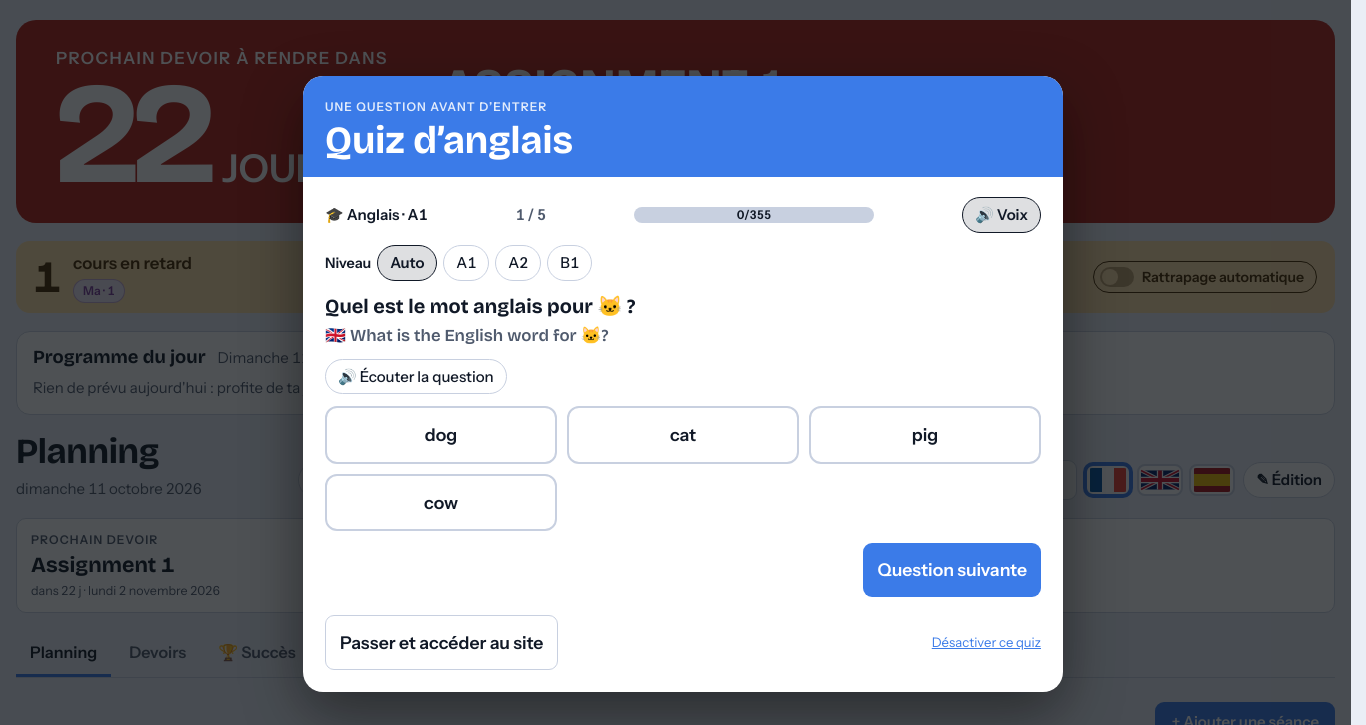
it: English quiz at the door › the level of the questions can be chosen: auto by default, or A1, A2, B1 (a new round starts, progress is kept)
Expected: the text "🎓 Anglais · A1" is shown, x1=325 y1=204 x2=427 y2=226
Click the button named "Niveau B1 : 0 réussies sur 443" at coordinates (570, 263), box x1=547 y1=245 x2=592 y2=281
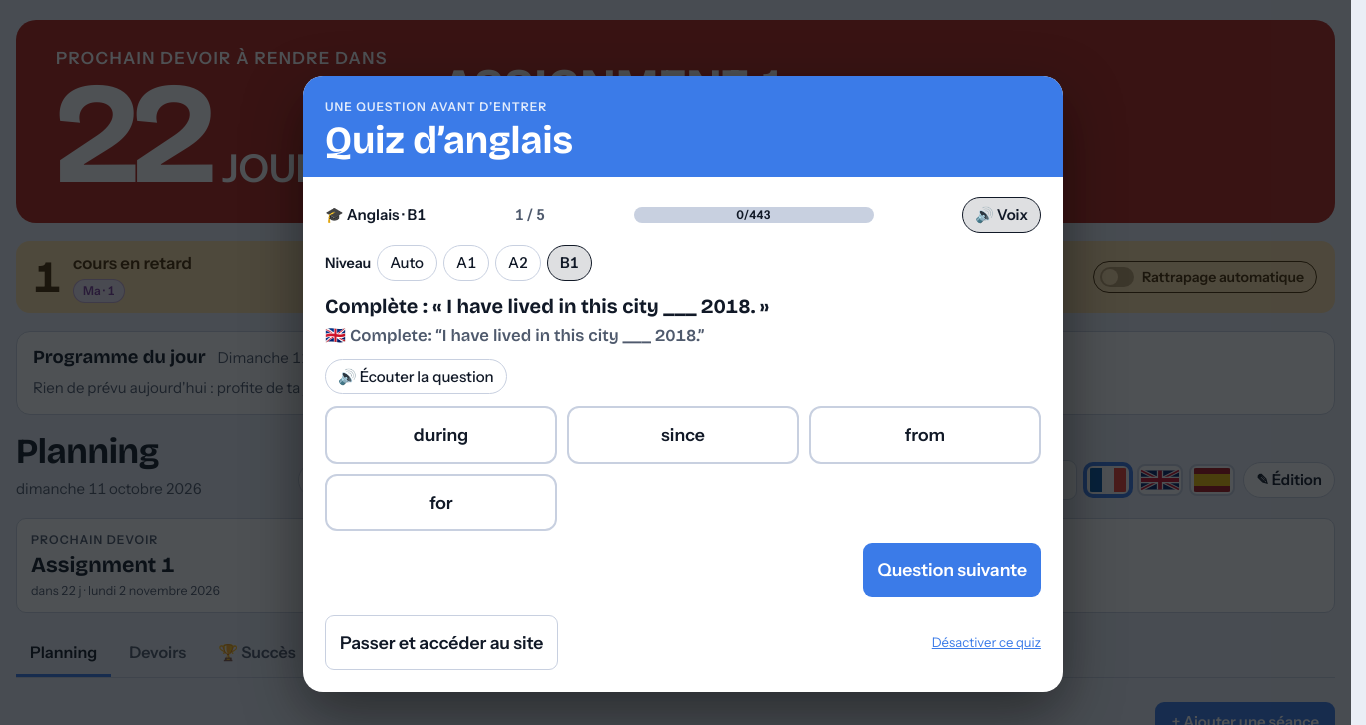
Expected: the text "1 / 5" is shown, x1=515 y1=204 x2=545 y2=226
Expected: the text "🎓 Anglais · B1" is shown, x1=325 y1=204 x2=426 y2=226
Click the button "since" at coordinates (683, 435), box x1=567 y1=406 x2=799 y2=464
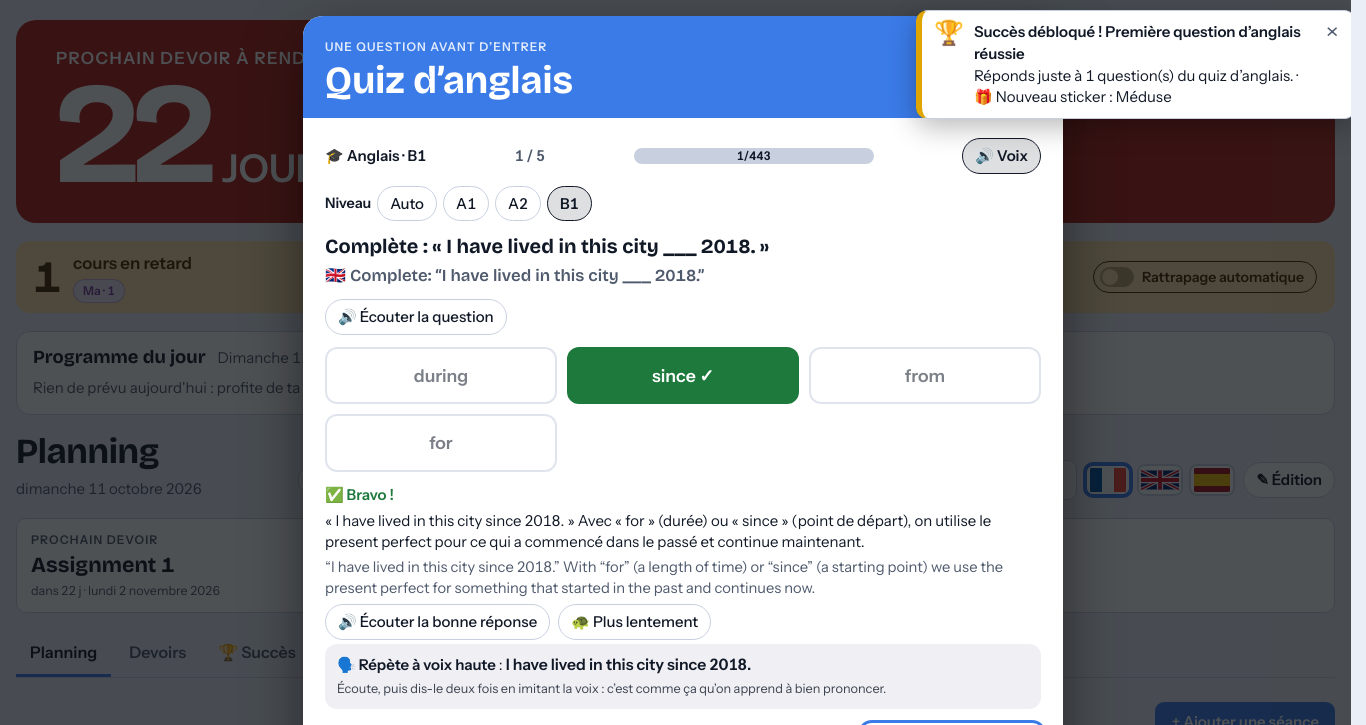
# back to the automatic course, which is still at the beginning of A1
Click the button with aria-label "Je progresse niveau par niveau" at coordinates (407, 203), box x1=377 y1=186 x2=437 y2=221
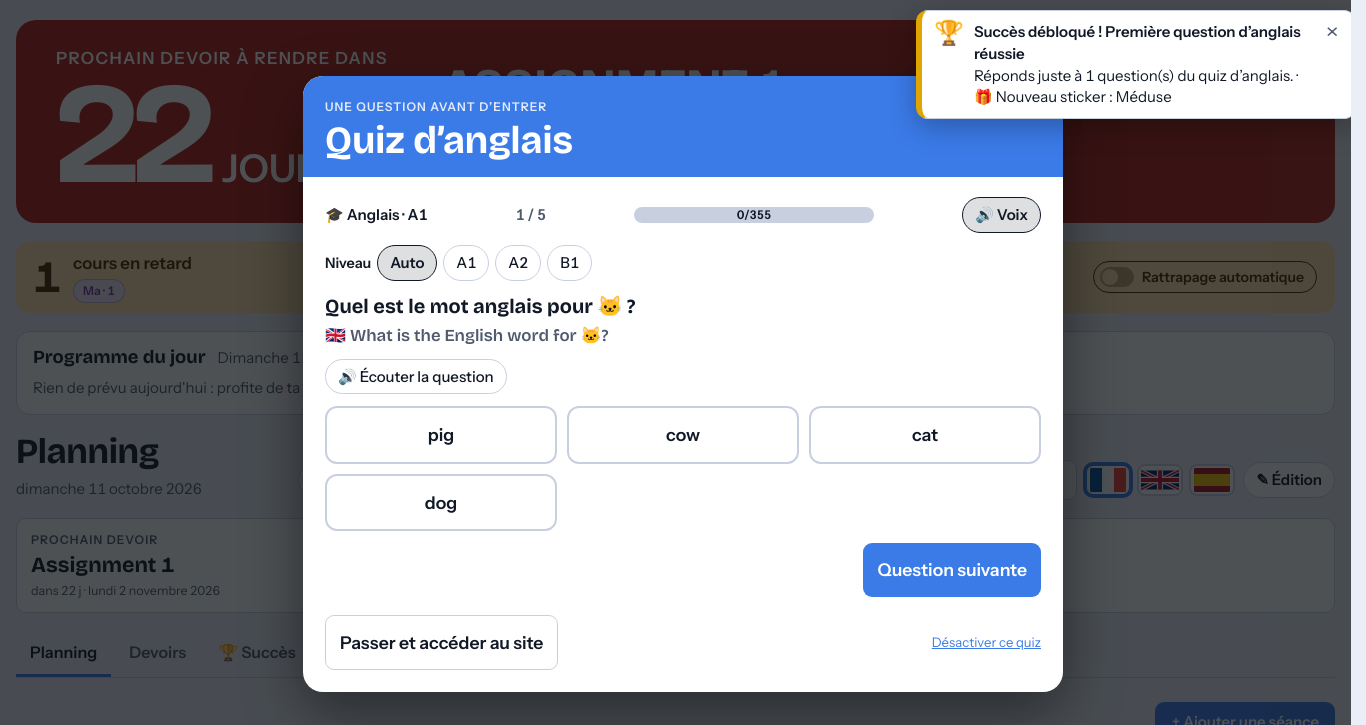
Expected: the text "🎓 Anglais · A1" is shown, x1=325 y1=204 x2=427 y2=226
